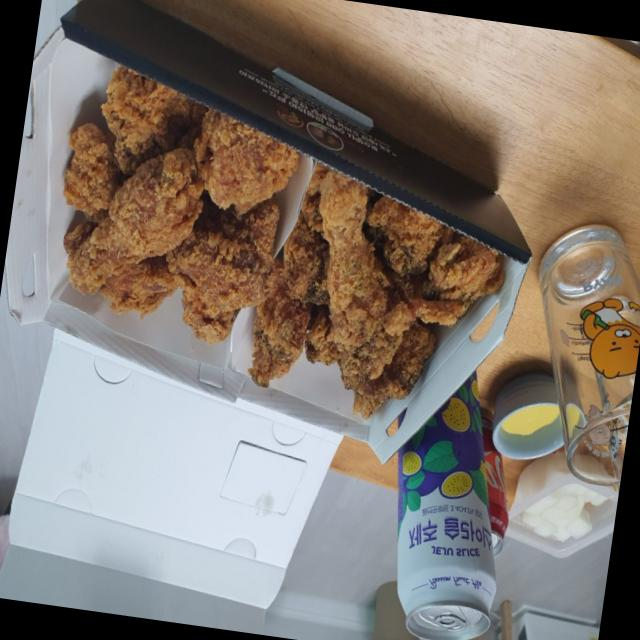can: (396, 365, 495, 640), (483, 401, 510, 557)
glass bottle: (538, 215, 640, 490)
paper: (3, 0, 534, 610)
plastic-bowl: (503, 451, 620, 567)
